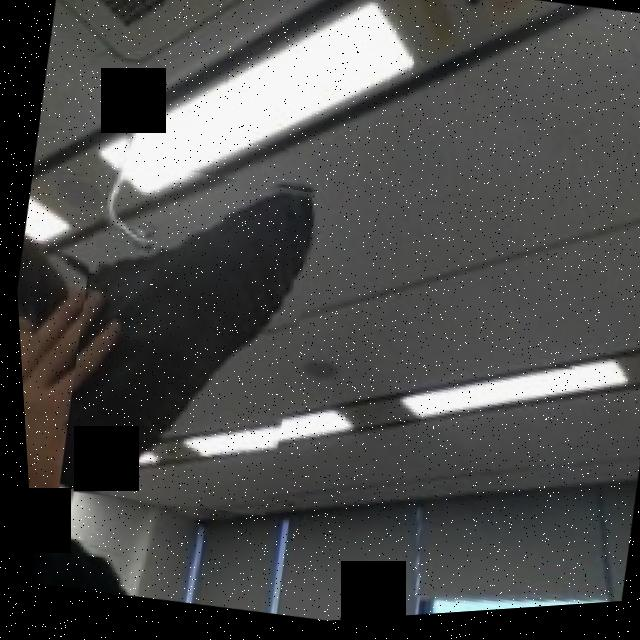shoe: (38, 147, 337, 532)
